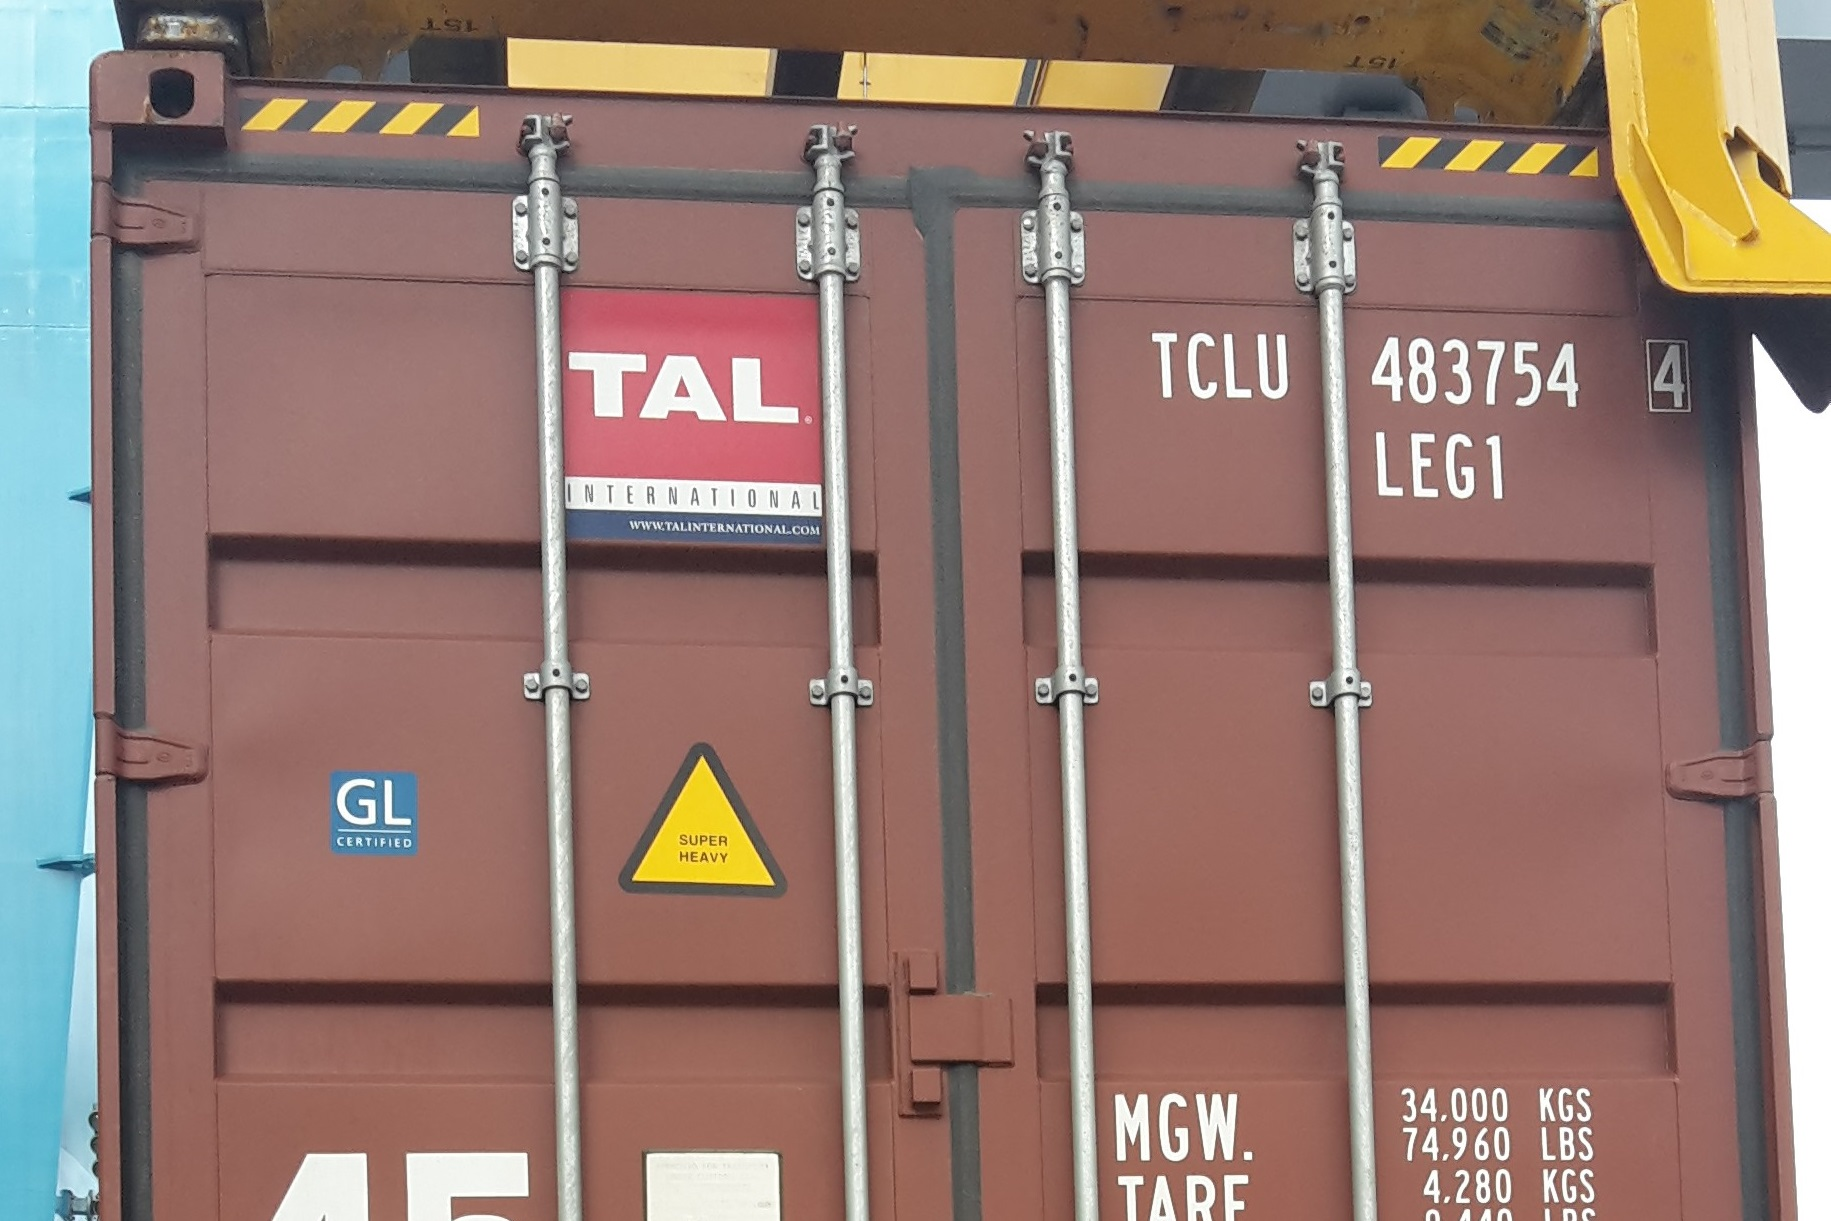container_door: (93, 55, 1796, 1221)
